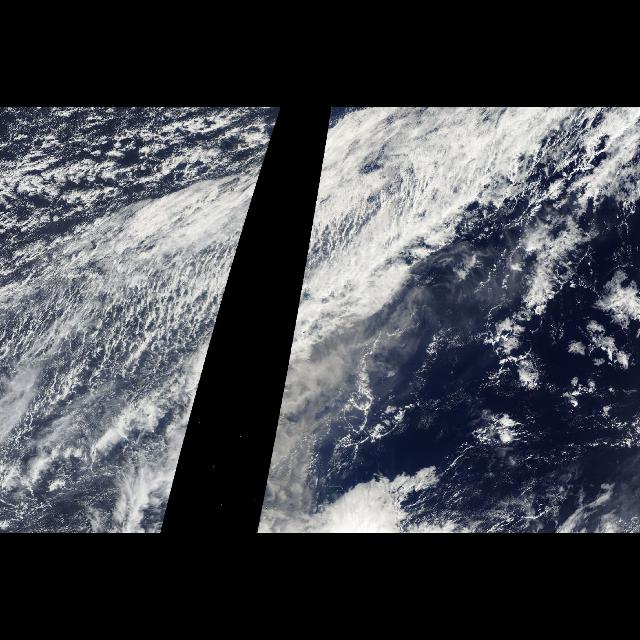Sugar: (3, 108, 265, 186)
